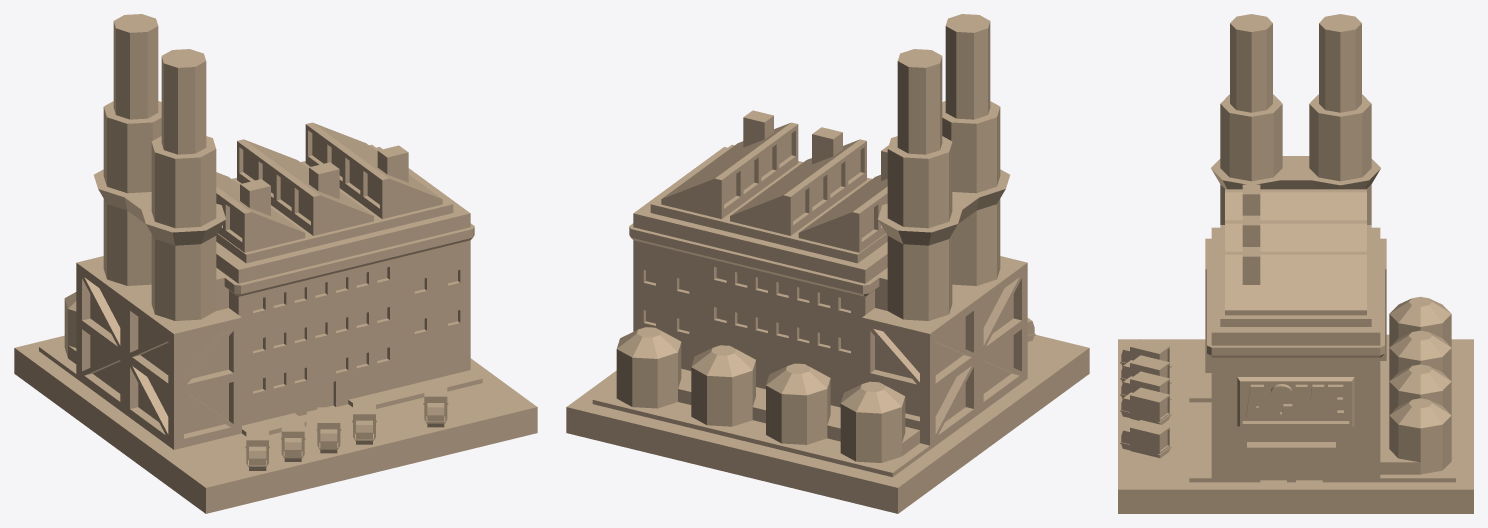
The model's file is Heavy_Industrial1.fbx.
3 views of the same model, side by side, from view 1: azimuth 30°, elevation 25°; view 2: azimuth 150°, elevation 25°; view 3: azimuth 270°, elevation 25° (orthographic). The views are drawn at different scales.
Parts seen in each view (by area): view 1: Heavy_Industrial_1; view 2: Heavy_Industrial_1; view 3: Heavy_Industrial_1.
Part boxes in pixels (x1,y1,x2,y2): Heavy_Industrial_1: (14, 14, 537, 513); Heavy_Industrial_1: (566, 14, 1089, 513); Heavy_Industrial_1: (1118, 14, 1473, 513).
Bounding box in the file's own units: 4000 × 4505 × 4000.
